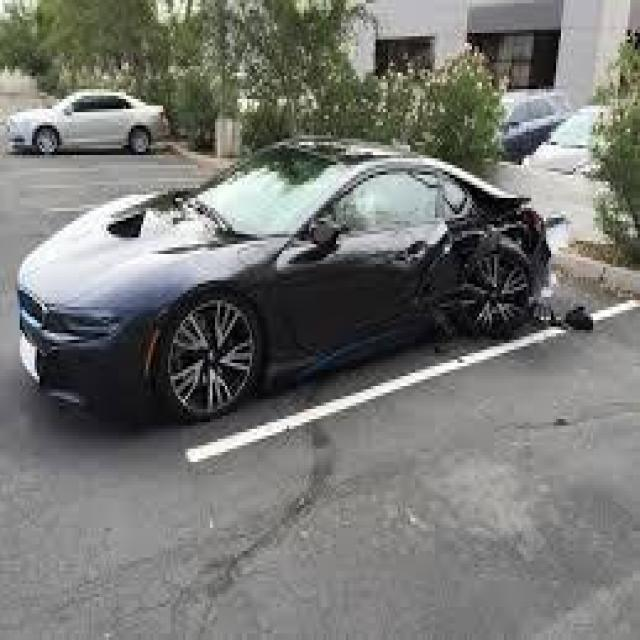damaged: (402, 185, 554, 323)
